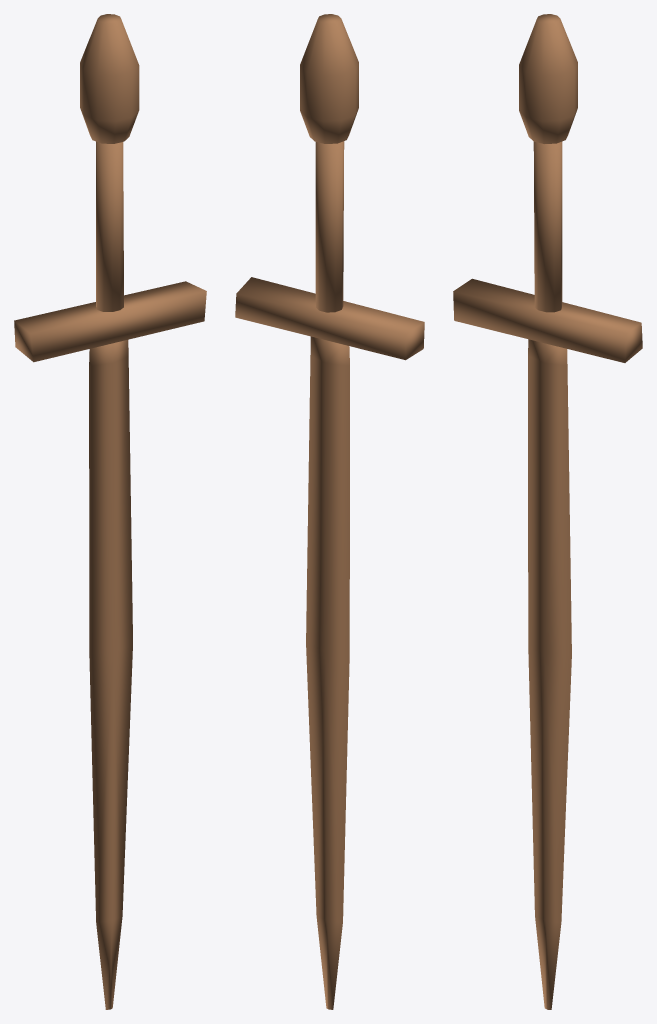
The model's file is rusted_sword.glb.
3 renders of one model, left to right at view 1: azimuth 30°, elevation 25°; view 2: azimuth 150°, elevation 25°; view 3: azimuth 330°, elevation 25°, orthographic.
Parts seen in each view (by area): view 1: rusted_sword; view 2: rusted_sword; view 3: rusted_sword.
Part boxes in pixels (x1=…): rusted_sword: x1=14, y1=14, x2=206, y2=1009; rusted_sword: x1=235, y1=14, x2=424, y2=1009; rusted_sword: x1=453, y1=14, x2=642, y2=1009.
Size of the model in its own units: 0.2033 by 1.1 by 0.0571.
